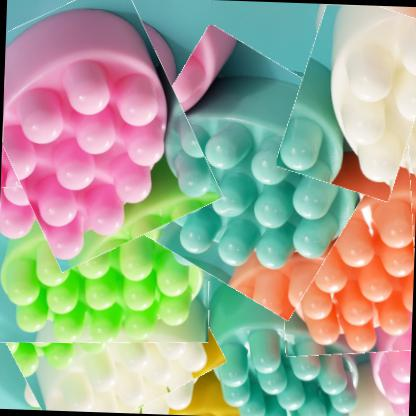soap: (116, 40, 383, 304), (0, 0, 209, 266), (0, 182, 213, 349), (10, 266, 222, 416), (273, 139, 415, 361), (285, 4, 415, 199)
